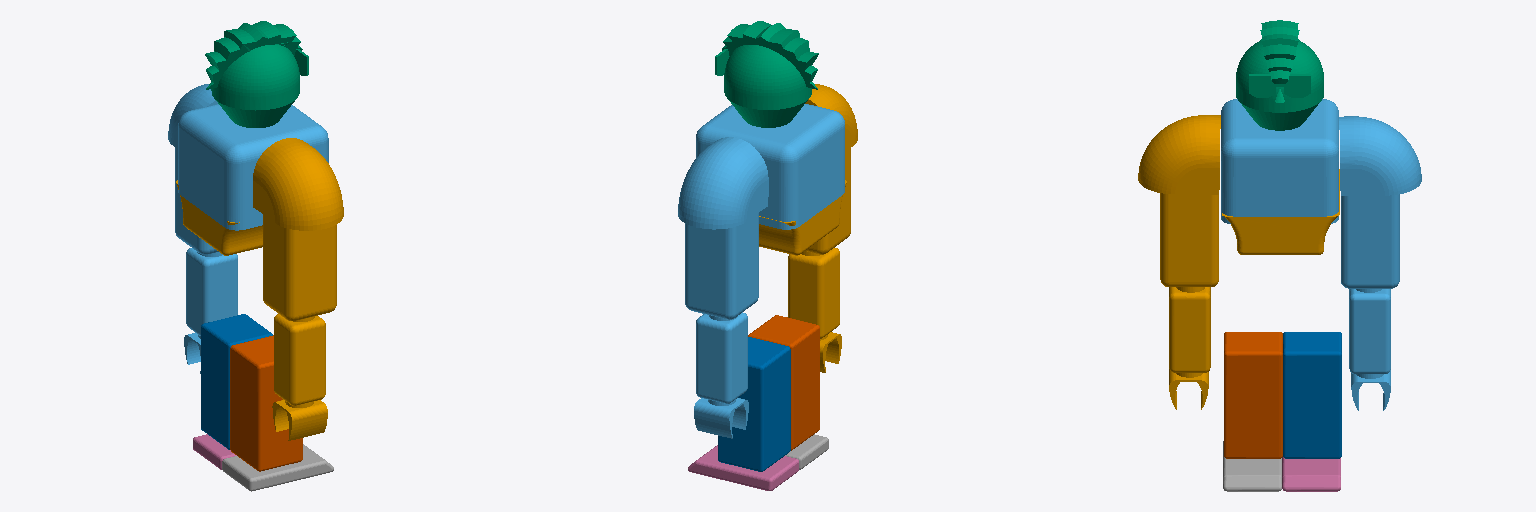
The robot description file, URDF, robot "myrobot":
<?xml version="1.0"?>
<robot name="myrobot"> 
  <link name="base_link">
    <visual>
      <origin rpy="0 0 1.5708" xyz="-0.11 -0.2 0.92"/>
      <geometry>
        <mesh filename="package://project_ars/meshes/PelvisSet.dae"/>
      </geometry>
    </visual>
    <collision>
      <geometry>
        <mesh filename="package://project_ars/meshes/PelvisSet.dae"/>
      </geometry>
      <origin rpy="0 0 1.5708" xyz="-0.11 -0.2 0.92"/>
    </collision>
    <inertial>
      <origin xyz="0.20249272 -0.20250583 0.06211146"/>
      <mass value="10.00000000"/>
      <inertia ixx="0.15041074" ixy="-0.00000615" ixz="-0.00000249" iyy="0.11756382" iyz="0.00000090" izz="0.23112792"/>
    </inertial>
  </link>
  
  <link name="body">
    <visual>
      <origin rpy="0 0 1.5708" xyz="-0.11 -0.2 0.1"/>
      <geometry>
        <mesh filename="package://project_ars/meshes/BodySae1.dae"/>
      </geometry>
    </visual>
    <collision>
      <geometry>
        <mesh filename="package://project_ars/meshes/BodySae1.dae"/>
      </geometry>
      <origin rpy="0 0 1.5708" xyz="-0.11 -0.2 0.1"/>     
    </collision>
    <inertial>
      <origin xyz="0.19997700 -0.19998671 0.25811755"/>
      <mass value="10.00000000"/>
      <inertia ixx="0.20151511" ixy="-0.00000000" ixz="0.00000039" iyy="0.20151514" iyz="-0.00000038" izz="0.25709222"/>
    </inertial>
  </link>
  
  <joint name="base_link_to_body" type="fixed">
    <parent link="base_link"/>
    <child link="body"/>
    <axis xyz="0 1 0"/>
    <limit effort="50" lower="0" upper="0.2" velocity="1"/>
    <origin rpy="0 0 0" xyz="0 0 0.94"/>
  </joint>
  
  <link name="left_leg">
    <visual>
      <origin rpy="1.5708 0 1.5708" xyz="-0.1 -0.09 -0.44"/>
      <geometry>
        <mesh filename="package://project_ars/meshes/Leg1.dae"/>
      </geometry>
    </visual>
    <collision>
      <geometry>
        <mesh filename="package://project_ars/meshes/Leg1.dae"/>
      </geometry>
      <origin rpy="1.5708 0 1.5708" xyz="-0.1 -0.09 -0.44"/>
    </collision>
    <inertial>
      <origin xyz="0.10005853 0.17149170 0.10085291"/>
      <mass value="15.00000000"/>
      <inertia ixx="0.25437144" ixy="-0.00000022" ixz="0.00000004" iyy="0.09441054" iyz="-0.00000031" izz="0.25437051"/>
    </inertial>
  </link>
  
  <joint name="base_link_to_left_leg" type="revolute">
    <axis xyz="0 -1 0"/>
    <limit effort="50" lower="-0.5" upper="0.5" velocity="1"/>
    <parent link="base_link"/>
    <child link="left_leg"/>
    <dynamics damping="0.1" friction="0.0"/>
    <origin rpy="0 0 0" xyz="0.1 0.1 0.92"/>
  </joint>
  
  <link name="right_leg">
    <visual>
      <origin rpy="1.5708 0 1.5708" xyz="-0.1 -0.09 -0.44"/>
      <geometry>
        <mesh filename="package://project_ars/meshes/Leg1.dae"/>
      </geometry>
    </visual>
    <collision>
      <geometry>
        <mesh filename="package://project_ars/meshes/Leg1.dae"/>
      </geometry>
      <origin rpy="1.5708 0 1.5708" xyz="-0.1 -0.09 -0.44"/>
    </collision>
    <inertial>
      <origin xyz="0.10005853 0.17149170 0.10085291"/>
      <mass value="15.00000000"/>
      <inertia ixx="0.25437144" ixy="-0.00000022" ixz="0.00000004" iyy="0.09441054" iyz="-0.00000031" izz="0.25437051"/>
    </inertial>
  </link>
  
  <joint name="base_link_to_right_leg" type="revolute">
    <axis xyz="0 1 0"/>
    <limit effort="50" lower="-0.5" upper="0.5" velocity="1"/>
    <parent link="base_link"/>
    <child link="right_leg"/>
    <dynamics damping="0.1" friction="0.0"/>
    <origin rpy="0 0 0" xyz="0.1 -0.1 0.92"/>
  </joint>
  
  <link name="left_leg2">
    <visual>
      <origin rpy="1.5708 0 1.5708" xyz="-0.1 -0.09 -0.4"/>
      <geometry>
        <mesh filename="package://project_ars/meshes/Leg2.dae"/>
      </geometry>
    </visual>
    <collision>
      <geometry>
        <mesh filename="package://project_ars/meshes/Leg2.dae"/>
      </geometry>
      <origin rpy="1.5708 0 1.5708" xyz="-0.1 -0.09 -0.4"/>
    </collision>
    <inertial>
      <origin xyz="0.10284502 0.18549160 0.08964800"/>
      <mass value="15.00000000"/>
      <inertia ixx="0.24913623" ixy="-0.00000966" ixz="0.00001190" iyy="0.08858279" iyz="-0.00001755" izz="0.25843459"/>
    </inertial>
  </link>
  
  <joint name="left_leg_to_left_leg2" type="revolute">
    <axis xyz="0 -1 0"/>
    <limit effort="50" lower="-0.5" upper="0" velocity="1"/>
    <parent link="left_leg"/>
    <child link="left_leg2"/>
    <dynamics damping="0.1" friction="0.0"/>
    <origin rpy="0 0 0" xyz="0 0 -0.43"/>
  </joint>
  
  <link name="right_leg2">
    <visual>
      <origin rpy="1.5708 0 1.5708" xyz="-0.1 -0.09 -0.4"/>
      <geometry>
        <mesh filename="package://project_ars/meshes/Leg2.dae"/>
      </geometry>
    </visual>
    <collision>
      <geometry>
        <mesh filename="package://project_ars/meshes/Leg2.dae"/>
      </geometry>
      <origin rpy="1.5708 0 1.5708" xyz="-0.1 -0.09 -0.4"/>
    </collision>
    <inertial>
      <origin xyz="0.10284502 0.18549160 0.08964800"/>
      <mass value="15.00000000"/>
      <inertia ixx="0.24913623" ixy="-0.00000966" ixz="0.00001190" iyy="0.08858279" iyz="-0.00001755" izz="0.25843459"/>
    </inertial>
  </link>
  
  <joint name="right_leg_to_right_leg2" type="revolute">
    <axis xyz="0 1 0"/>
    <limit effort="50" lower="0" upper="0.5" velocity="1"/>
    <parent link="right_leg"/>
    <child link="right_leg2"/>
    <dynamics damping="0.1" friction="0.0"/>
    <origin rpy="0 0 0" xyz="0 0 -0.43"/>
  </joint>  

  <link name="left_leg3">
    <visual>
      <origin rpy="0 0 1.5708" xyz="0.2 -0.15 -0.05"/>
      <geometry>
        <mesh filename="package://project_ars/meshes/Leg3.dae"/>
      </geometry>
    </visual>
    <collision>
      <geometry>
        <mesh filename="package://project_ars/meshes/Leg3.dae"/>
      </geometry>
      <origin rpy="0 0 1.5708" xyz="0.2 -0.15 -0.05"/>
    </collision>
    <inertial>
      <origin xyz="0.16134525 0.17446571 0.02672897"/>
      <mass value="40.00000000"/>
      <inertia ixx="0.35078345" ixy="-0.00002883" ixz="-0.00001171" iyy="0.13771172" iyz="-0.00273541" izz="0.47245737"/>
    </inertial>
  </link>
  
  <joint name="left_leg2_to_left_leg3" type="revolute">
    <axis xyz="0 1 0"/>
    <limit effort="50" lower="-0.3" upper="0.3" velocity="1"/>
    <parent link="left_leg2"/>
    <child link="left_leg3"/>
    <dynamics damping="0.1" friction="0.0"/>
    <origin rpy="0 0 0" xyz="0 0 -0.4"/>
  </joint>
  
  <link name="right_leg3">
    <visual>
      <origin rpy="0 0 1.5708" xyz="0.2 -0.15 -0.05"/>
      <geometry>
        <mesh filename="package://project_ars/meshes/Leg3.dae"/>
      </geometry>
    </visual>
    <collision>
      <geometry>
        <mesh filename="package://project_ars/meshes/Leg3.dae"/>
      </geometry>
      <origin rpy="0 0 1.5708" xyz="0.2 -0.15 -0.05"/>
    </collision>
    <inertial>
      <origin xyz="0.16134525 0.17446571 0.02672897"/>
      <mass value="40.00000000"/>
      <inertia ixx="0.35078345" ixy="-0.00002883" ixz="-0.00001171" iyy="0.13771172" iyz="-0.00273541" izz="0.47245737"/>
    </inertial>
  </link>
  
  <joint name="right_leg2_to_right_leg3" type="revolute">
    <axis xyz="0 1 0"/>
    <limit effort="50" lower="-0.3" upper="0.3" velocity="1"/>
    <parent link="right_leg2"/>
    <child link="right_leg3"/>
    <dynamics damping="0.1" friction="0.1"/>
    <origin rpy="0 0 0" xyz="0 0 -0.4"/>
  </joint>  

  <link name="right_hand">
    <visual>
      <origin rpy="0 0 1.5708" xyz="-0.13 -0.33 -0.9"/>
      <geometry>
        <mesh filename="package://project_ars/meshes/HandSat.dae"/>
      </geometry>
    </visual>
    <collision>
      <geometry>
        <mesh filename="package://project_ars/meshes/HandSat.dae"/>
      </geometry>
      <origin rpy="0 0 1.5708" xyz="-0.13 -0.33 -0.9"/>
    </collision>
    <inertial>
      <origin xyz="0.16405303 -0.12817503 0.50130021"/>
      <mass value="8.00000000"/>
      <inertia ixx="0.59727673" ixy="-0.00000098" ixz="0.00377988" iyy="0.60183456" iyz="-0.00000109" izz="0.06118834"/>
    </inertial>
  </link>
  
  <joint name="body_to_right_hand" type="revolute">
    <axis xyz="0 1 0"/>
    <limit effort="50" lower="-0.9" upper="0.9" velocity="0.5"/>
    <parent link="body"/>
    <child link="right_hand"/>
    <dynamics damping="0.1" friction="0.0"/>
    <origin rpy="0 0 0" xyz="0.1 -0.15 0.25"/>
  </joint>
  
  <link name="left_hand">
    <visual>
      <origin rpy="0 0 1.5708" xyz="-0.13 -0.33 -0.9"/>
      <geometry>
        <mesh filename="package://project_ars/meshes/HandSat.dae"/>
      </geometry>
    </visual>
    <collision>
      <geometry>
        <mesh filename="package://project_ars/meshes/HandSat.dae"/>
      </geometry>
      <origin rpy="0 0 1.5708" xyz="-0.13 -0.33 -0.9"/>
    </collision>
    <inertial>
      <origin xyz="0.16405303 -0.12817503 0.50130021"/>
      <mass value="8.00000000"/>
      <inertia ixx="0.59727673" ixy="-0.00000098" ixz="0.00377988" iyy="0.60183456" iyz="-0.00000109" izz="0.06118834"/>
    </inertial>
  </link>
  
  <joint name="body_to_left_hand" type="revolute">
    <axis xyz="0 1 0"/>
    <limit effort="50" lower="-0.9" upper="0.9" velocity="1"/>
    <parent link="body"/>
    <child link="left_hand"/>
    <origin rpy="0 0 3.1416" xyz="0.1 0.15 0.25"/>
  </joint>
  
  <link name="head">
    <visual>
      <origin rpy="0 0 1.5708" xyz="-0.2 -0.15 0"/>
      <geometry>
        <mesh filename="package://project_ars/meshes/HeadSat.dae"/>
      </geometry>
    </visual>
    <collision>
      <geometry>
        <mesh filename="package://project_ars/meshes/HeadSat.dae"/>
      </geometry>
      <origin rpy="0 0 1.5708" xyz="-0.2 -0.15 0"/>
    </collision>
    <inertial>
      <origin xyz="0.14999319 -0.20977530 0.20792024"/>
      <mass value="2.00000000"/>
      <inertia ixx="0.02626647" ixy="-0.00000002" ixz="0.00000033" iyy="0.02160944" iyz="0.00005699" izz="0.02166270"/>
    </inertial>
  </link>
  
  <joint name="body_to_head" type="revolute">
    <axis xyz="0 1 0"/>
    <limit effort="50" lower="-0.3" upper="0.5" velocity="1"/>
    <parent link="body"/>
    <child link="head"/>
    <dynamics damping="0.1" friction="0.0"/>
    <origin rpy="0 0 0" xyz="0.1 0 0.4"/>
  </joint>

</robot>

--- Facts derived from the render (not from the file) ---
The picture shows the robot from 3 angles, left to right: view 1: azimuth 30°, elevation 25°; view 2: azimuth 150°, elevation 25°; view 3: azimuth 270°, elevation 25°; orthographic projection.
Model myrobot with 11 links and 10 joints (9 revolute, 1 fixed), rooted at base_link, posed all joints at 0.
Visible links, largest first — view 1: right_hand, body, head, right_leg2, left_hand, left_leg2, right_leg3, base_link, left_leg3; view 2: left_hand, body, head, right_hand, left_leg2, right_leg2, base_link, left_leg3, right_leg3; view 3: left_hand, right_hand, body, left_leg2, right_leg2, head, base_link, right_leg3, left_leg3.
Boxes of the visible links, left/top/right/bottom form: right_hand: left=253, top=138, right=343, bottom=440; body: left=178, top=104, right=328, bottom=230; head: left=205, top=21, right=308, bottom=127; right_leg2: left=230, top=335, right=302, bottom=471; left_hand: left=168, top=84, right=237, bottom=373; left_leg2: left=201, top=314, right=272, bottom=449; right_leg3: left=222, top=444, right=333, bottom=491; base_link: left=176, top=180, right=262, bottom=255; left_leg3: left=193, top=434, right=236, bottom=469; left_hand: left=678, top=137, right=768, bottom=438; body: left=696, top=104, right=844, bottom=229; head: left=715, top=21, right=818, bottom=127; right_hand: left=788, top=84, right=857, bottom=372; left_leg2: left=718, top=337, right=790, bottom=471; right_leg2: left=748, top=315, right=819, bottom=450; base_link: left=759, top=180, right=846, bottom=255; left_leg3: left=688, top=445, right=798, bottom=490; right_leg3: left=785, top=434, right=828, bottom=469; left_hand: left=1339, top=116, right=1421, bottom=410; right_hand: left=1138, top=115, right=1220, bottom=409; body: left=1221, top=99, right=1338, bottom=223; left_leg2: left=1283, top=332, right=1341, bottom=458; right_leg2: left=1224, top=332, right=1282, bottom=458; head: left=1236, top=20, right=1323, bottom=130; base_link: left=1222, top=169, right=1339, bottom=254; right_leg3: left=1223, top=441, right=1281, bottom=491; left_leg3: left=1282, top=457, right=1340, bottom=491.
Size in the robot's own frame: 0.41 by 0.96 by 1.64 metres.
9 mesh visuals loaded from 7 distinct referenced files (6 Collada DAE); not drawn: 2 (reference not matched to a file when rendering).
